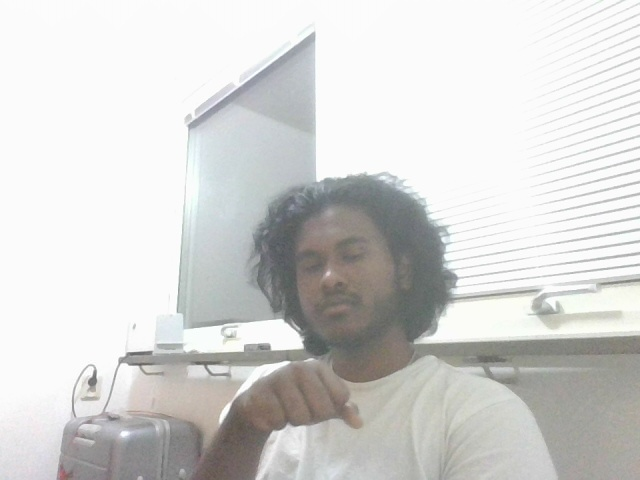Yes: (213, 357, 371, 441)
